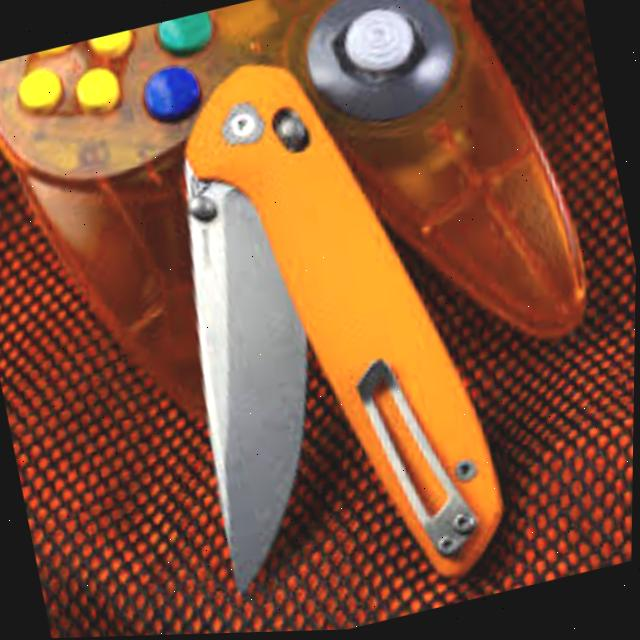Knife: (131, 22, 525, 631), (148, 137, 363, 598)
